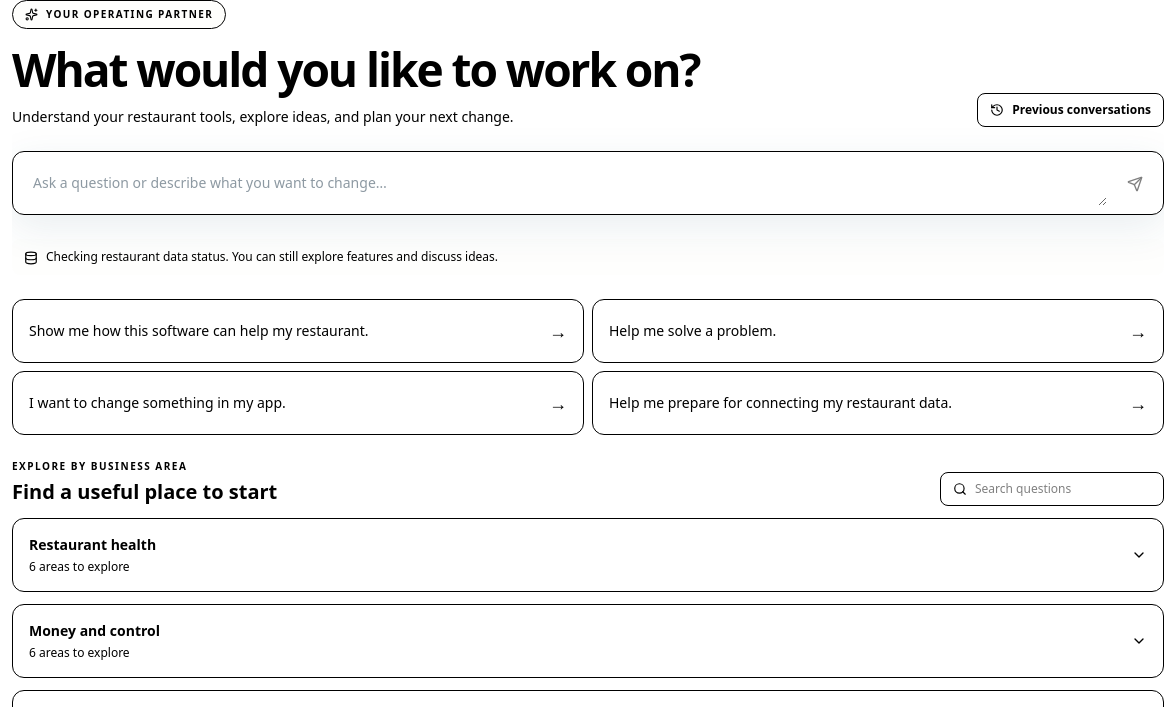
Test: owner OS without restaurant data › searches planned questions and tells the owner their feature is not live
The width and height of the screenshot is (1176, 707).
Type "Which supplier is most reliable?" into the field named "Search all OS questions" at point(1063, 489), box [975,481,1151,497]
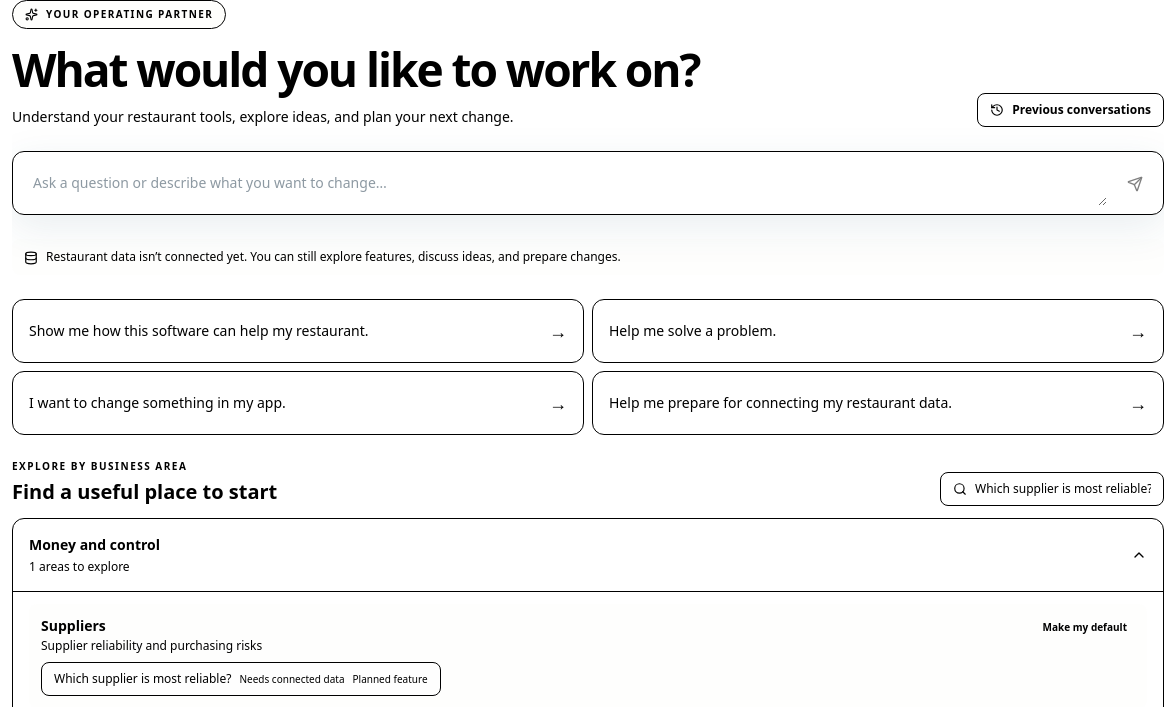
Click the button that starts with "Which supplier is most reliable?" at point(241, 679), box [41,662,440,696]
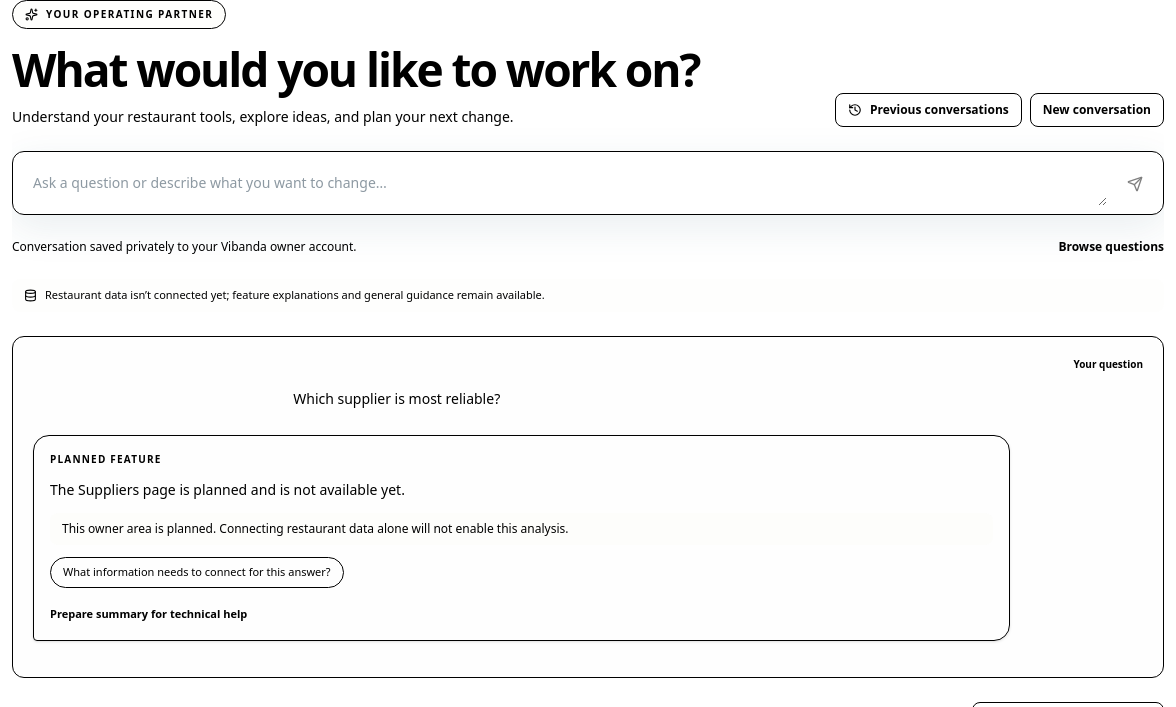
Now the text "The Suppliers page is planned and is not available yet." is shown, box [50,480,405,499]
